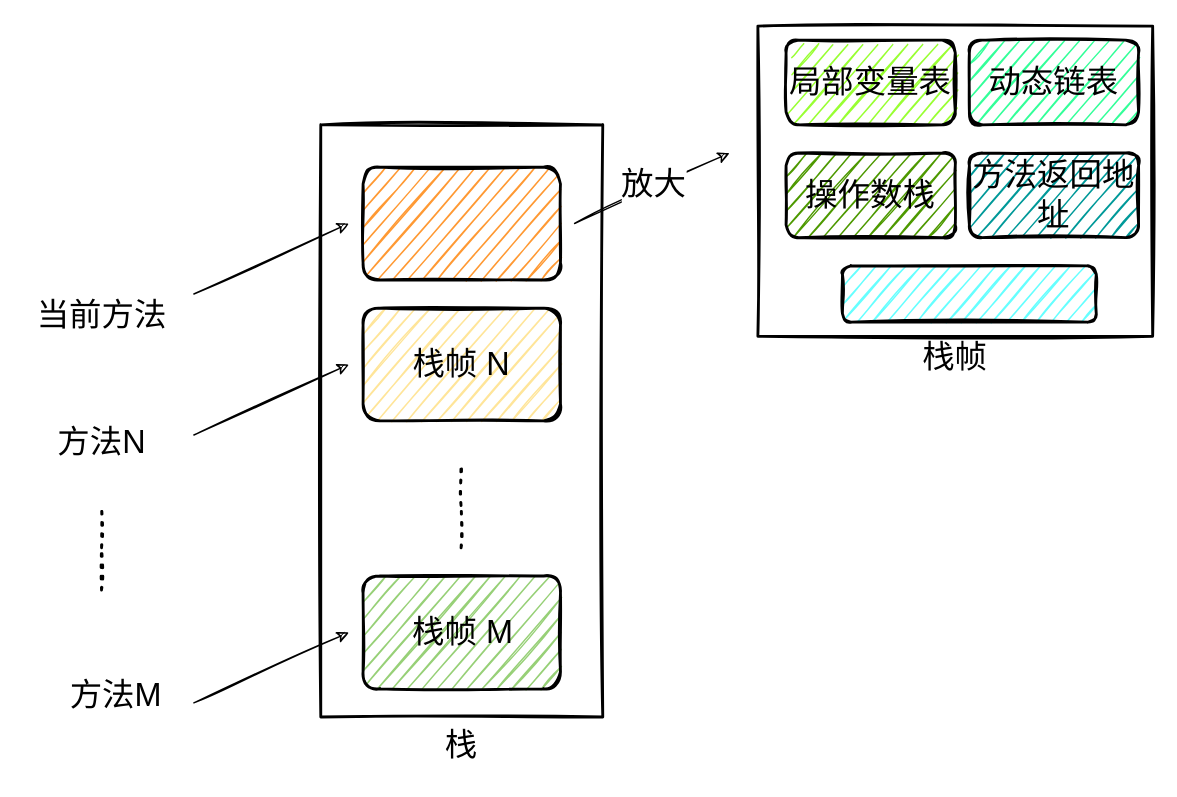
The diagram is 1177 pixels wide and 797 high, and some of its shapes have lost their labels. Here are the shapes that lost their labels. From the top down, the box of each, then its label:
(361, 165, 561, 281): 当前栈帧
(840, 264, 1097, 323): 附加信息
